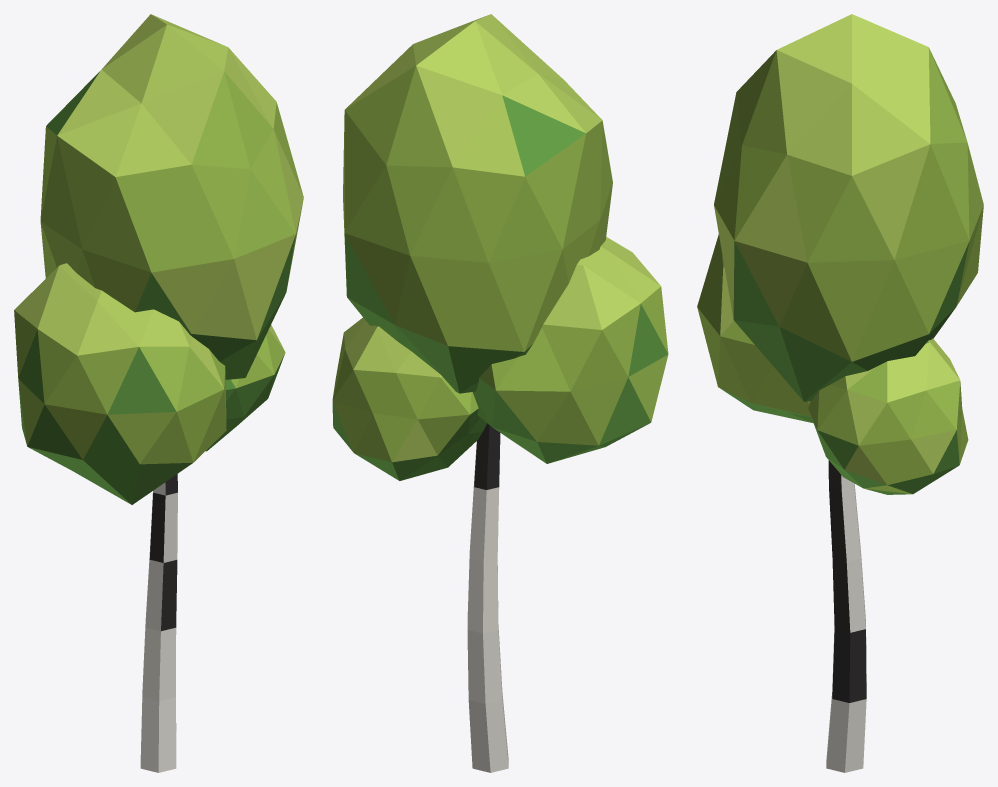
The model's file is tree_birch.glb.
3 views of the same model, side by side, from view 1: azimuth 30°, elevation 25°; view 2: azimuth 150°, elevation 25°; view 3: azimuth 270°, elevation 25° (orthographic). The views are drawn at different scales.
Parts seen in each view (by area): view 1: tree_birch; view 2: tree_birch; view 3: tree_birch.
Boxes of the visible parts, box(x1,y1,x2,y2) form: tree_birch: box(14, 14, 303, 772); tree_birch: box(332, 14, 668, 772); tree_birch: box(697, 14, 983, 772).
Bounding box in the file's own units: 2.34 × 5.89 × 2.02.
Materials: 1 (1 with a texture image).
